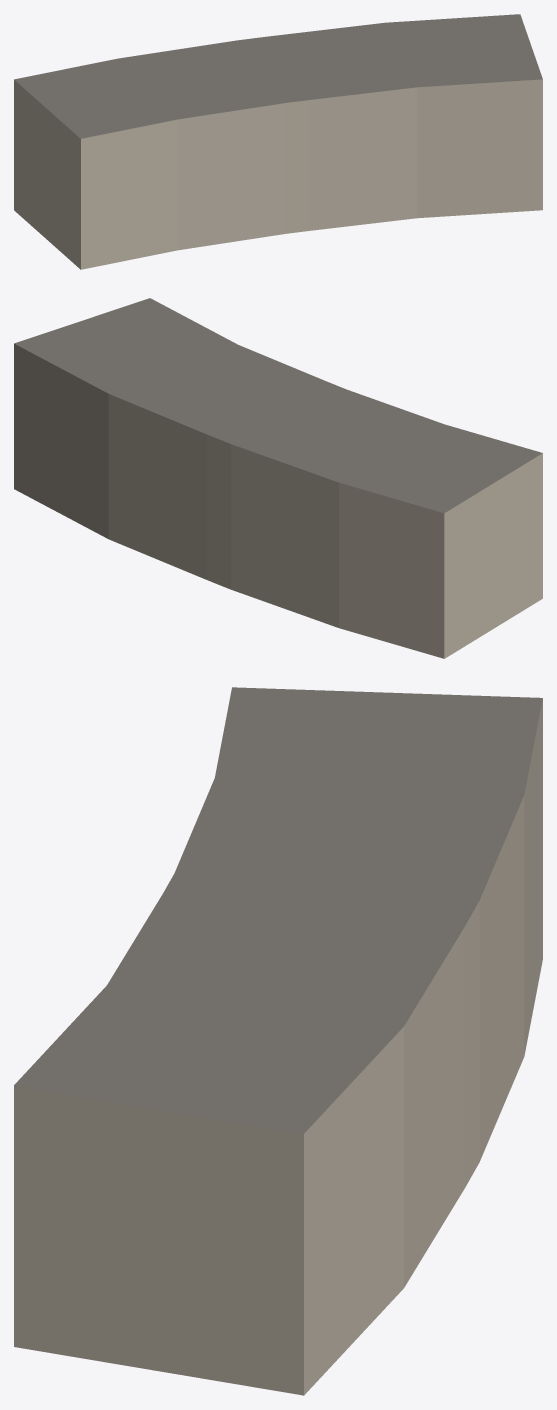
3 renders of one model, top to bottom at view 1: azimuth 30°, elevation 25°; view 2: azimuth 150°, elevation 25°; view 3: azimuth 270°, elevation 25°, orthographic. The views are drawn at different scales.
Visible parts, largest first — view 1: HP-w859488794; view 2: HP-w859488794; view 3: HP-w859488794.
Boxes of the visible parts, <box> form: HP-w859488794: <box>14,14,542,269</box>; HP-w859488794: <box>14,298,542,658</box>; HP-w859488794: <box>14,687,542,1395</box>.
Size of the model in its own units: 65.84 by 18 by 32.95.
